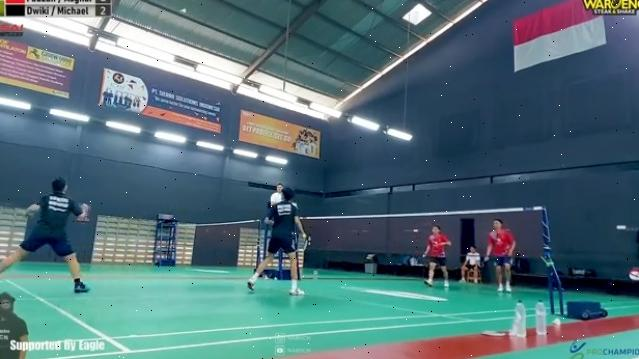Shuttlecock: (178, 4, 190, 16)
